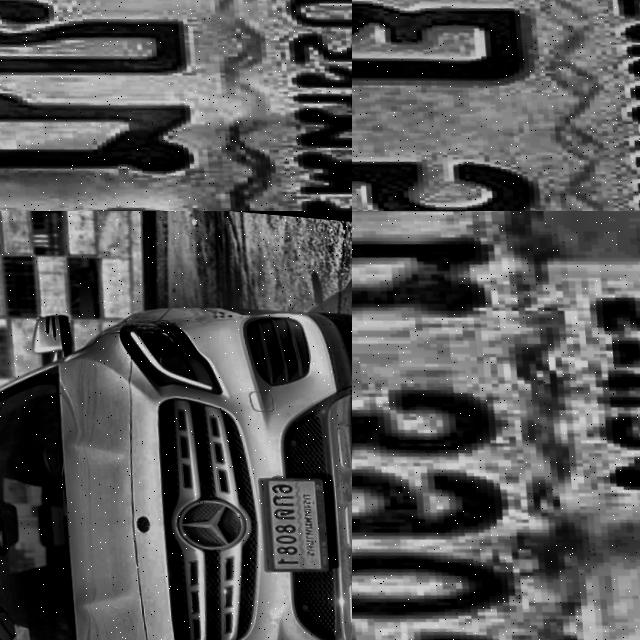license-plate: (352, 211, 640, 640), (0, 0, 352, 211), (352, 0, 640, 211), (254, 460, 331, 570)
